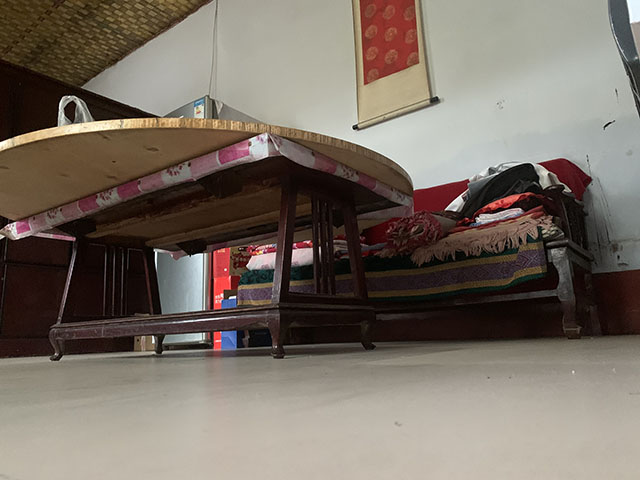cabinet: (1, 57, 160, 359)
sofa: (234, 157, 593, 349)
table: (1, 132, 415, 362)
